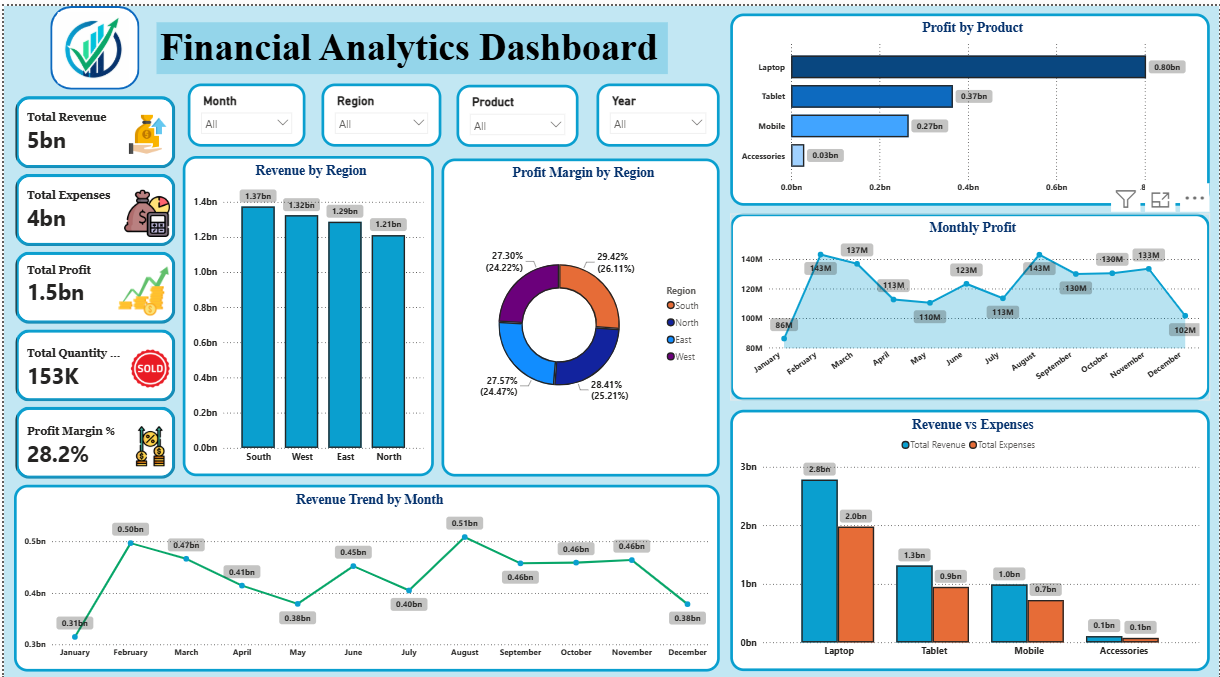

This screenshot's page, from the dashboard's own definition file:
{"tool":"powerbi","page":{"name":"Page 1","canvas":[1800,1000],"ordinal":0},"visuals":[{"type":"shape","box":[68.7,0,132.4,124],"z":0},{"type":"image","box":[79.6,7.4,105.6,109.3],"z":1000},{"type":"textbox","box":[226.2,23.5,757.4,77.1],"z":2000},{"type":"cardVisual","fields":{"Data":["Financial_Data.Total Revenue","Financial_Data.Total Expenses","Financial_Data.Total Profit","Financial_Data.Total Quantity Sold","Financial_Data.Profit Margin %"]},"box":[0,117.3,271.4,603.2],"z":3000},{"type":"slicer","fields":{"Values":["Financial_Data.Date.Variation.Date Hierarchy.Month"]},"box":[271.4,115.6,174.3,93.8],"z":3001},{"type":"slicer","fields":{"Values":["Financial_Data.Region"]},"box":[470.8,115.6,177.6,93.8],"z":3002},{"type":"slicer","fields":{"Values":["Financial_Data.Product"]},"box":[670.2,117.3,181,92.2],"z":3003},{"type":"slicer","fields":{"Values":["Financial_Data.Date.Variation.Date Hierarchy.Year"]},"box":[878,115.6,182.6,93.8],"z":3004},{"type":"lineChart","title":"Revenue Trend by Month","fields":{"Category":["Financial_Data.Date.Variation.Date Hierarchy.Month"],"Y":["Financial_Data.Total Revenue"]},"box":[15.1,708.8,1045.6,276.5],"z":3005},{"type":"clusteredColumnChart","title":"Revenue by Region","fields":{"Category":["Financial_Data.Region"],"Y":["Financial_Data.Total Revenue"]},"box":[264.7,222.9,372,474.2],"z":3006},{"type":"clusteredBarChart","title":"Profit by Product","fields":{"Category":["Financial_Data.Product"],"Y":["Financial_Data.Total Profit"]},"box":[1075.7,11.7,710.5,284.9],"z":3007},{"type":"clusteredColumnChart","title":"Revenue vs Expenses","fields":{"Category":["Financial_Data.Product"],"Y":["Financial_Data.Total Revenue","Financial_Data.Total Expenses"]},"box":[1075.7,598.2,710.5,387.1],"z":3008},{"type":"areaChart","title":"Monthly Profit","fields":{"Y":["Financial_Data.Total Profit"],"Category":["Financial_Data.Date.Variation.Date Hierarchy.Month"]},"box":[1075.7,308.3,710.5,276.5],"z":3009},{"type":"donutChart","title":"Profit Margin by Region","fields":{"Category":["Financial_Data.Region"],"Y":["Financial_Data.Profit Margin by Region"]},"box":[648.5,226.2,412.2,470.8],"z":3010}]}

Visuals, with their boxes in screenshot pixels (x1, y1, x2, y2), scaled from the page's 1800x1000 canvas onto the 1220x677 screenshot:
shape: <box>47,0,136,84</box>
image: <box>54,5,126,79</box>
textbox: <box>153,16,667,68</box>
cardVisual - Financial_Data.Total Revenue x Financial_Data.Total Expenses: <box>0,79,184,488</box>
slicer - Financial_Data.Date.Variation.Date Hierarchy.Month: <box>184,78,302,142</box>
slicer - Financial_Data.Region: <box>319,78,439,142</box>
slicer - Financial_Data.Product: <box>454,79,577,142</box>
slicer - Financial_Data.Date.Variation.Date Hierarchy.Year: <box>595,78,719,142</box>
"Revenue Trend by Month" lineChart: <box>10,480,719,667</box>
"Revenue by Region" clusteredColumnChart: <box>179,151,432,472</box>
"Profit by Product" clusteredBarChart: <box>729,8,1211,201</box>
"Revenue vs Expenses" clusteredColumnChart: <box>729,405,1211,667</box>
"Monthly Profit" areaChart: <box>729,209,1211,396</box>
"Profit Margin by Region" donutChart: <box>440,153,719,472</box>
